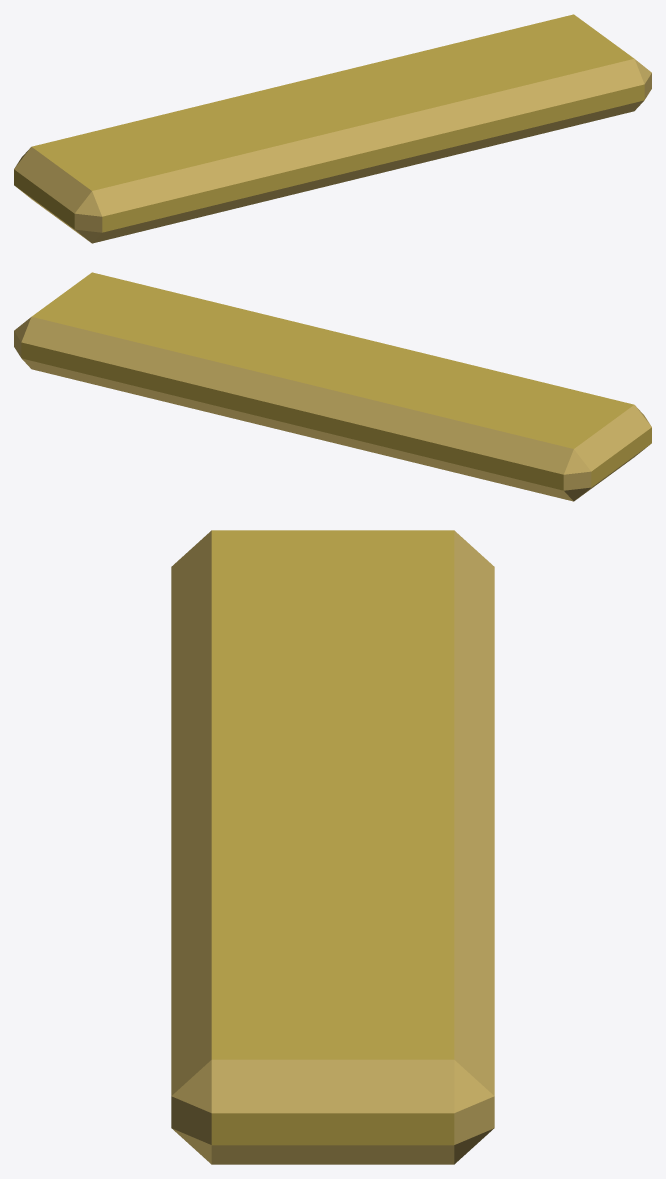
File: ladder.fbx
3 views of the same model, one above another, from view 1: azimuth 30°, elevation 25°; view 2: azimuth 150°, elevation 25°; view 3: azimuth 270°, elevation 25° (orthographic). The views are drawn at different scales.
Parts seen in each view (by area): view 1: Test145, Test144; view 2: Test145, Test144; view 3: Test145, Test144.
Boxes of the visible parts, left/top/right/bottom form: Test145: left=14, top=14, right=644, bottom=232; Test144: left=14, top=58, right=651, bottom=243; Test145: left=21, top=272, right=651, bottom=490; Test144: left=14, top=316, right=651, bottom=501; Test145: left=211, top=530, right=454, bottom=1145; Test144: left=171, top=530, right=494, bottom=1164.
Bounding box in the file's own units: 412 × 35.89 × 100.
